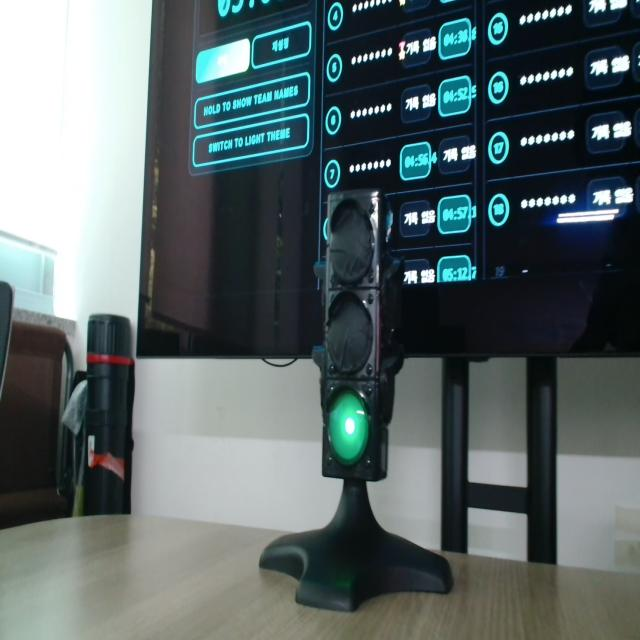green_light: (329, 390, 369, 465)
